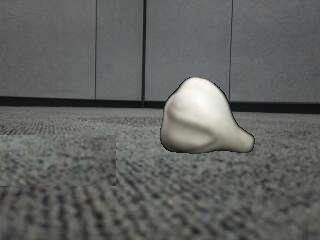Garlic: (159, 74, 254, 157)
